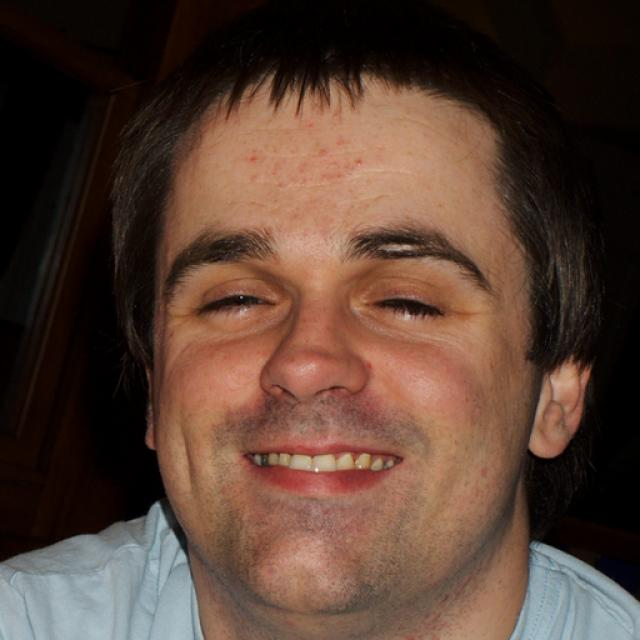Acne: (315, 142, 333, 164), (347, 156, 368, 173)
